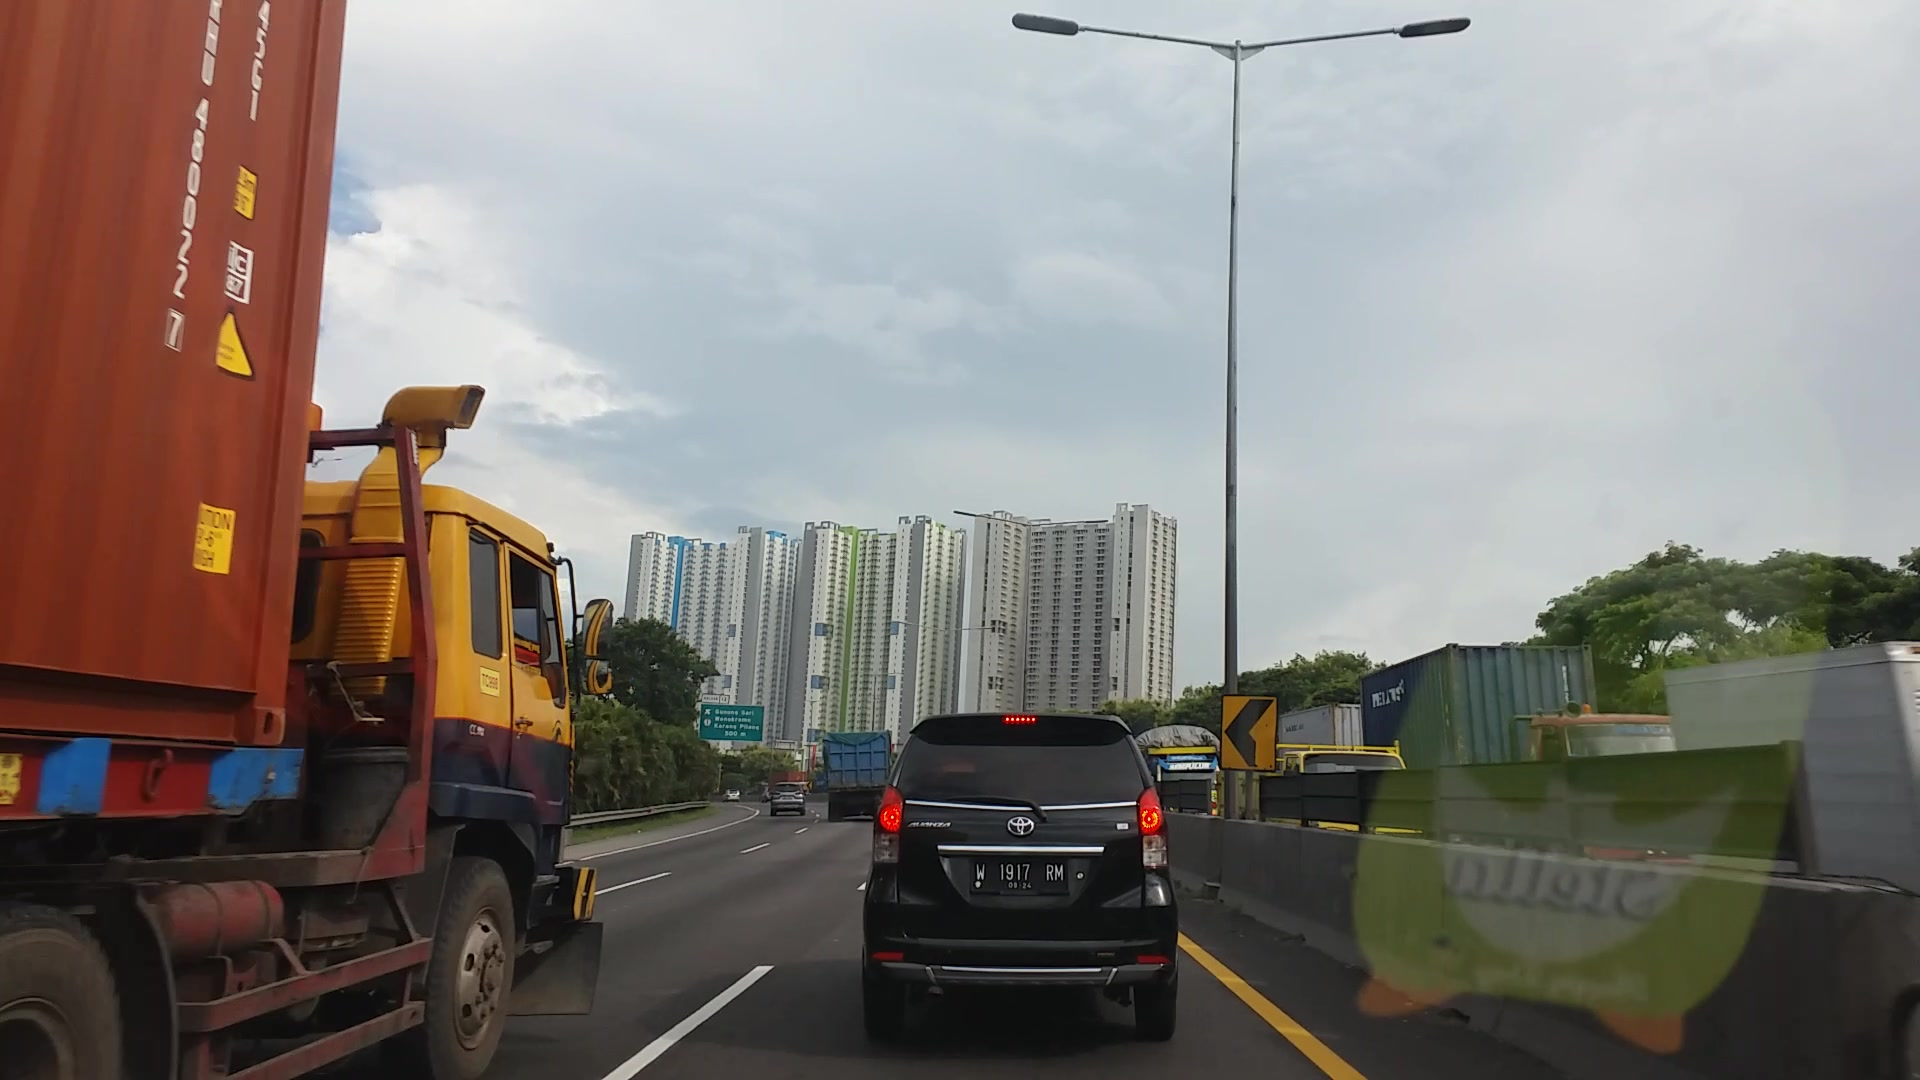plate_positive: (969, 857, 1069, 894)
